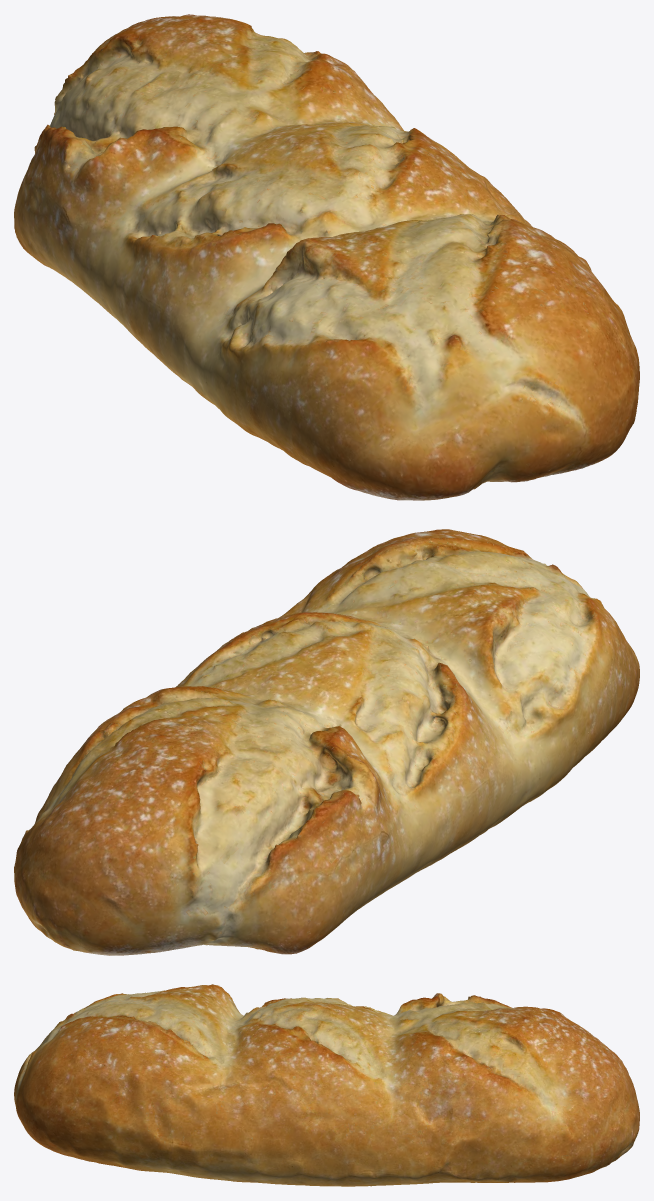
File: ekmek.glb
The picture shows the model from 3 angles, top to bottom: view 1: azimuth 30°, elevation 25°; view 2: azimuth 150°, elevation 25°; view 3: azimuth 270°, elevation 25°; orthographic projection. The views are drawn at different scales.
Visible parts, largest first — view 1: Object_2; view 2: Object_2; view 3: Object_2.
Boxes of the visible parts, left/top/right/bottom form: Object_2: left=14, top=14, right=639, bottom=500; Object_2: left=14, top=529, right=639, bottom=955; Object_2: left=14, top=984, right=639, bottom=1186.
Size of the model in its own units: 2.84 by 1.54 by 6.39.
1 material, 1 textured.
